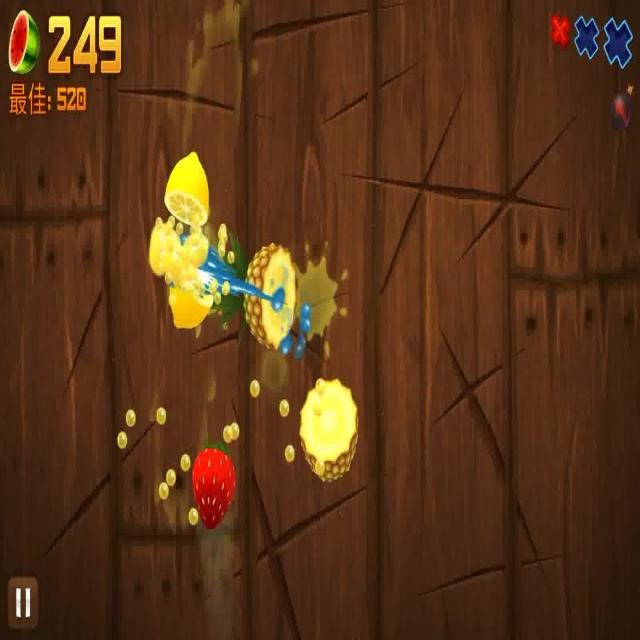fruit: (203, 241, 298, 345), (298, 379, 358, 481), (163, 149, 213, 224), (190, 446, 234, 527), (166, 264, 217, 332)
